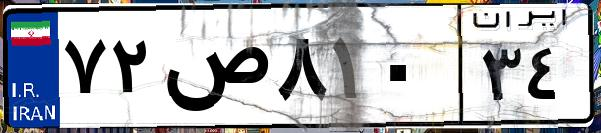0: (385, 28, 445, 110)
1: (330, 28, 385, 110)
2: (110, 28, 158, 98)
3: (475, 38, 525, 113)
4: (525, 38, 570, 115)
7: (57, 26, 110, 100)
8: (270, 28, 330, 110)
ص: (158, 20, 270, 120)
